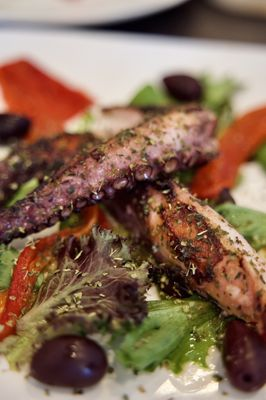pizza: (189, 104, 266, 202)
